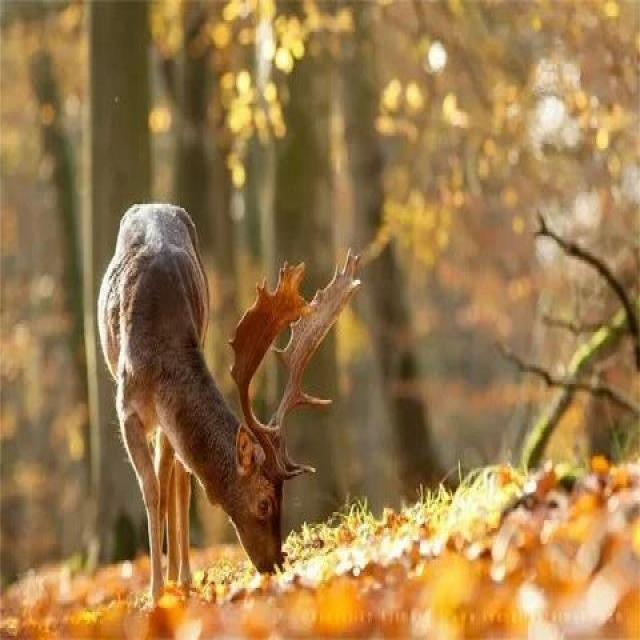deer: (96, 176, 373, 640)
